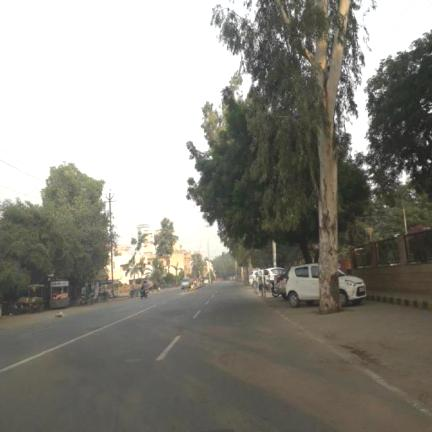Road: (0, 283, 431, 431)
